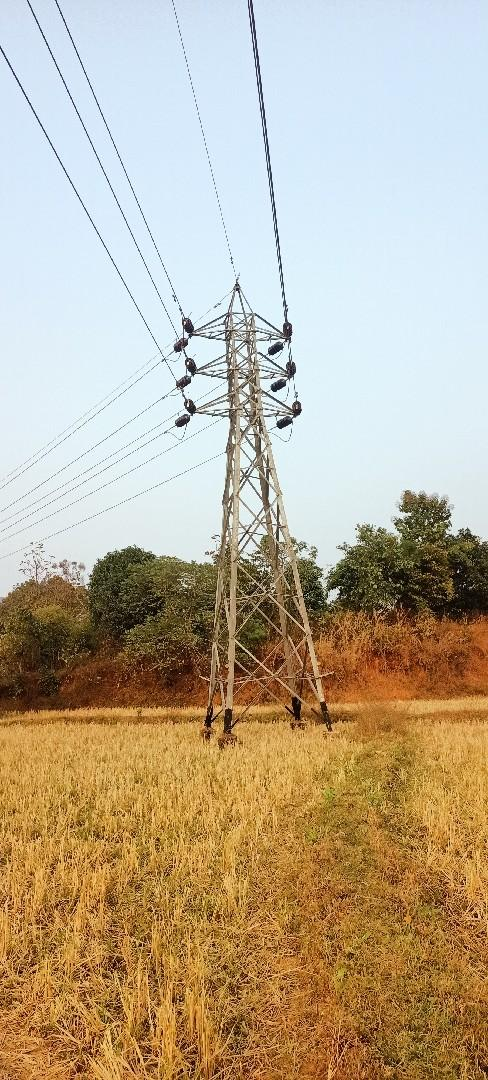GSM Antenna: (172, 262, 342, 718)
